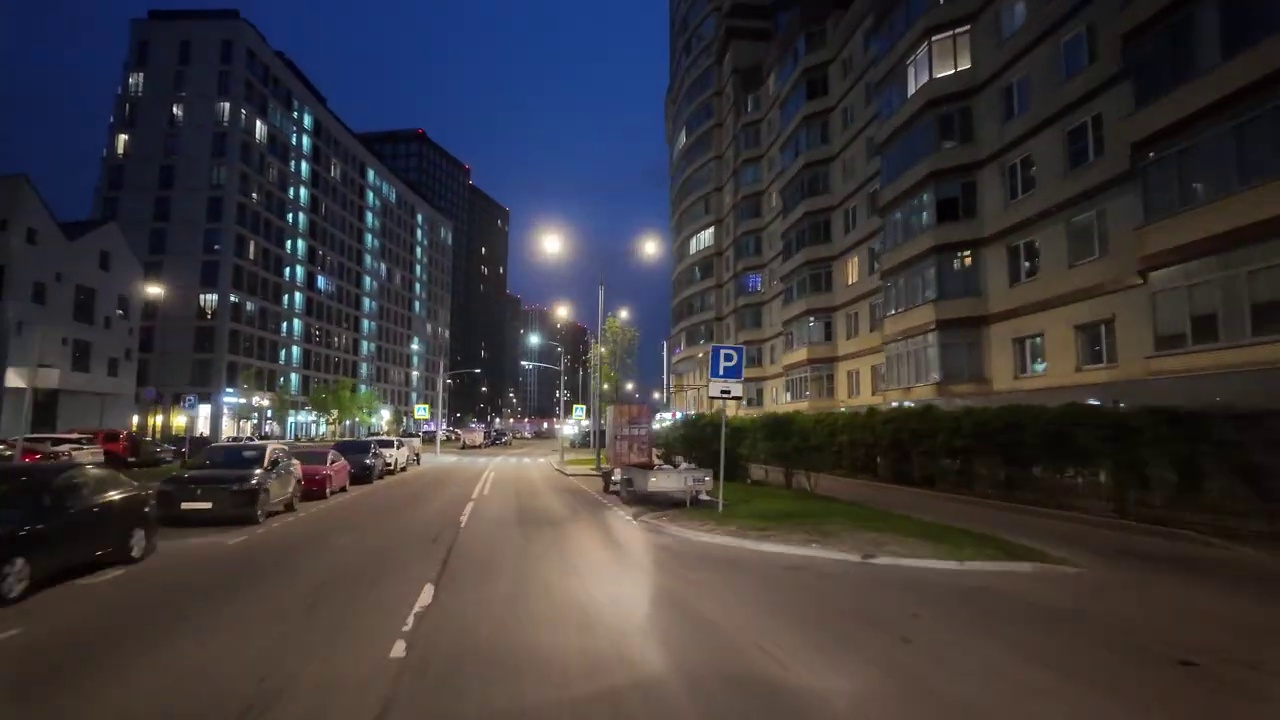acesa: (534, 228, 569, 260), (636, 233, 663, 262), (548, 300, 574, 327), (140, 279, 169, 303)
